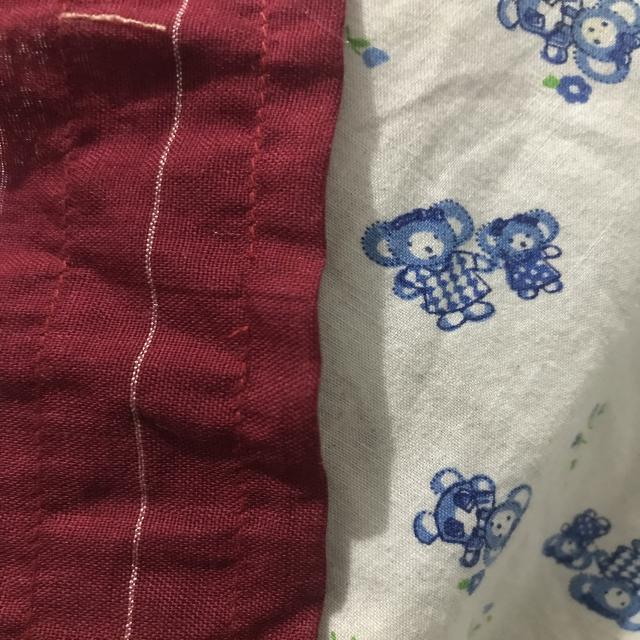broken: (218, 242, 277, 352)
good: (243, 106, 274, 198)
